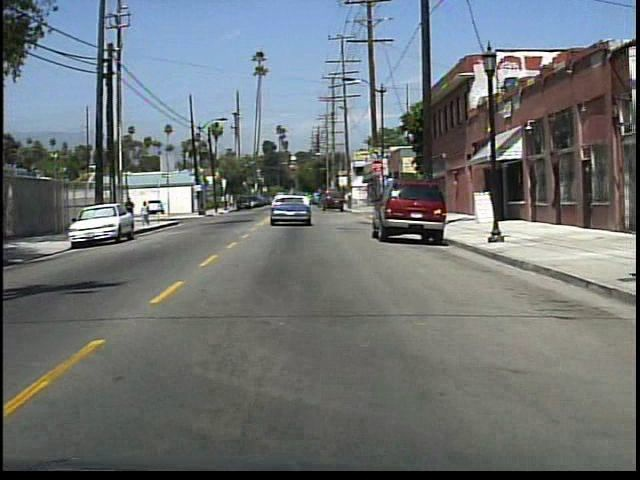person: (123, 195, 140, 228), (139, 199, 153, 228)
